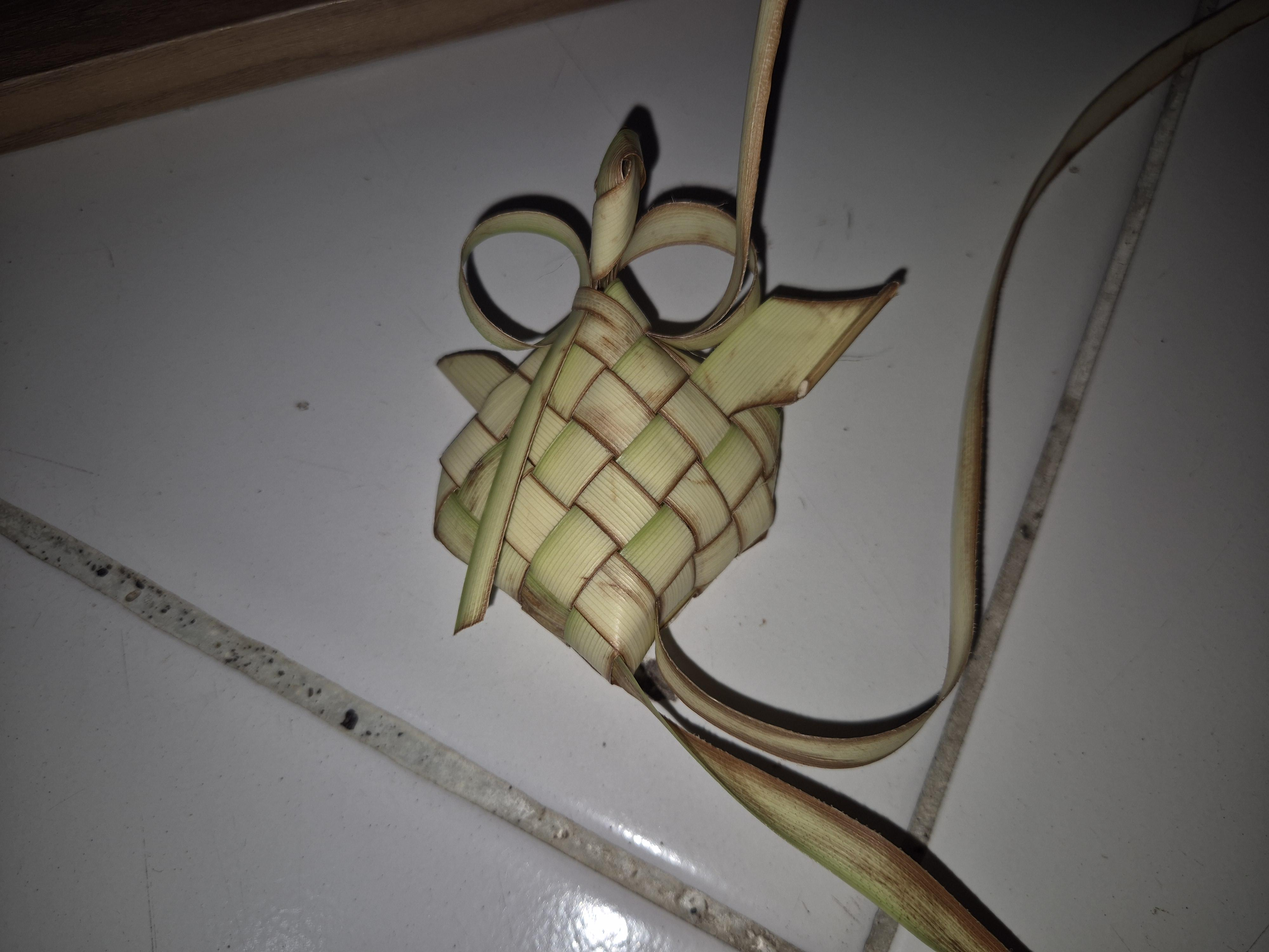Tipat Dampulan: (435, 0, 897, 679)
